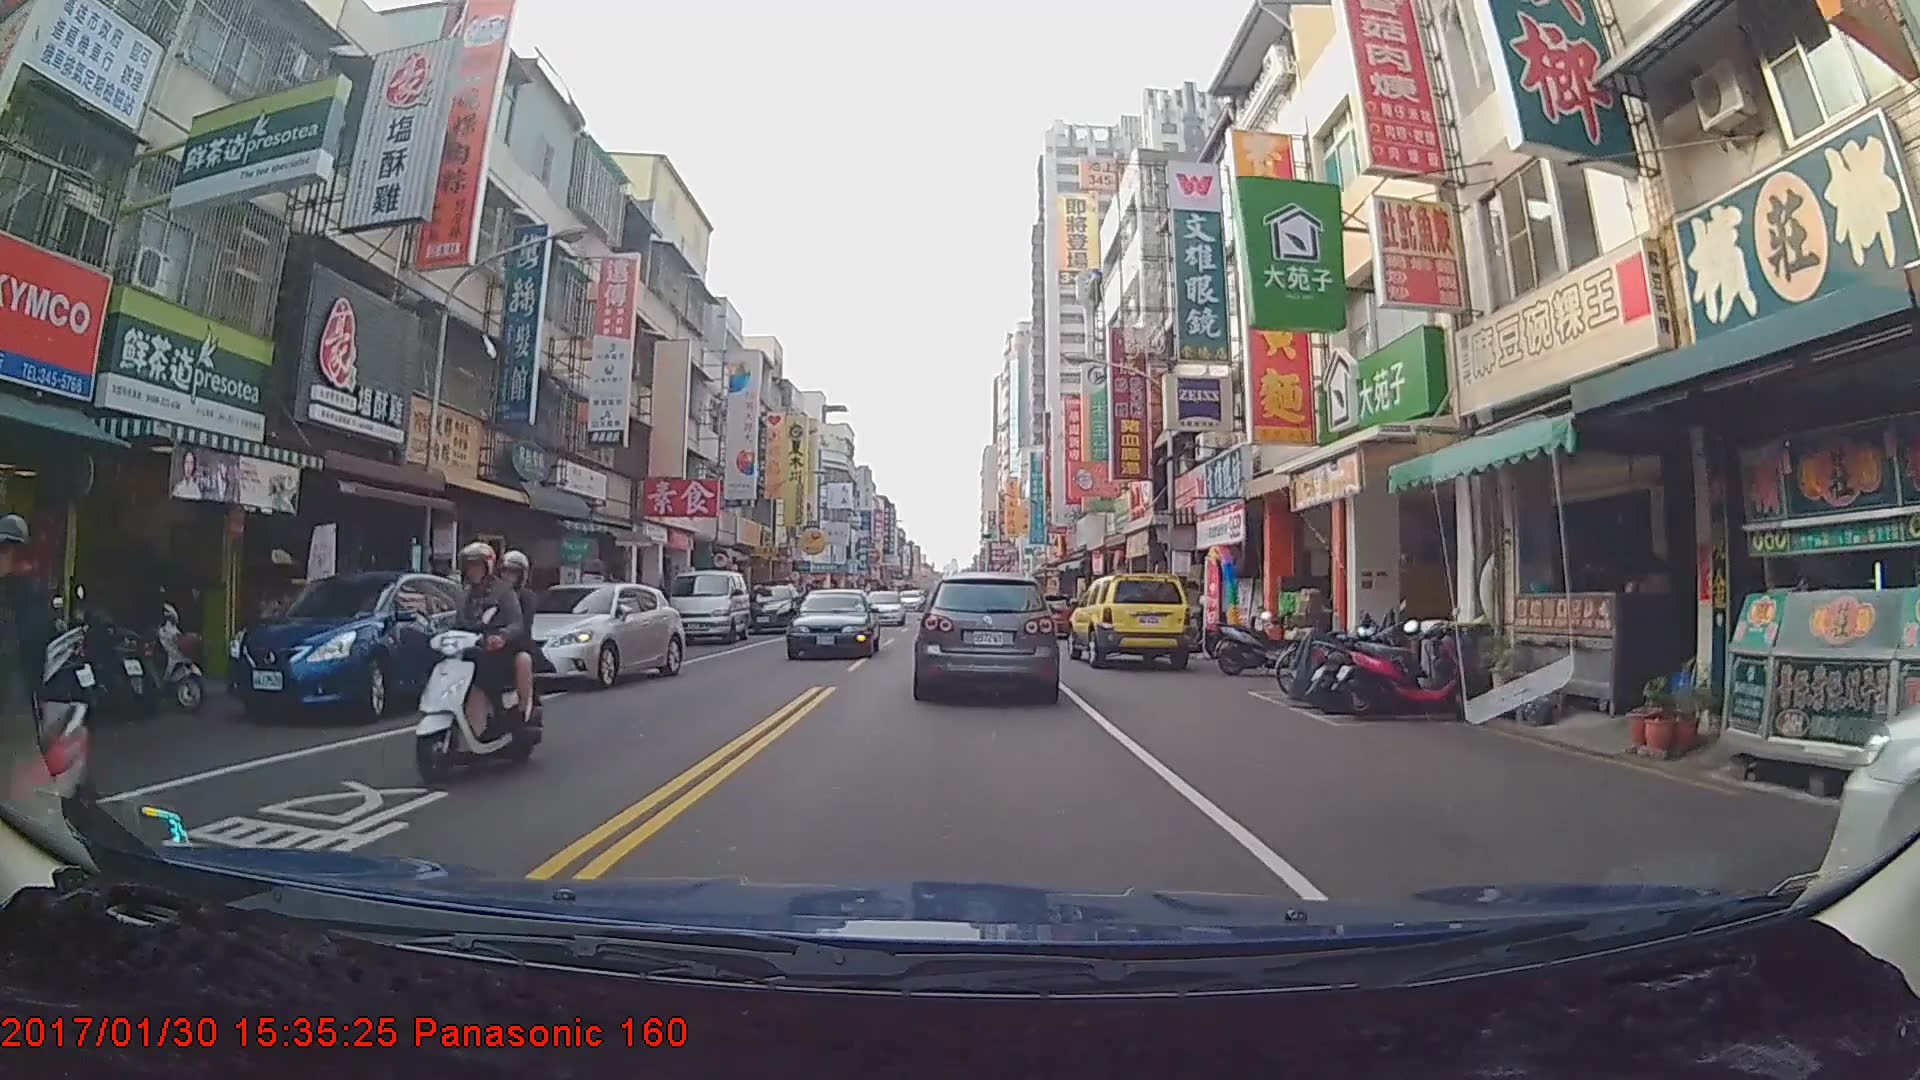rider: (1, 499, 109, 862), (413, 539, 545, 782)
vehicle: (221, 566, 488, 717), (484, 582, 685, 689), (916, 571, 1057, 700), (1069, 567, 1194, 668), (665, 569, 751, 645), (786, 587, 877, 657), (749, 580, 801, 634), (861, 588, 905, 626)
